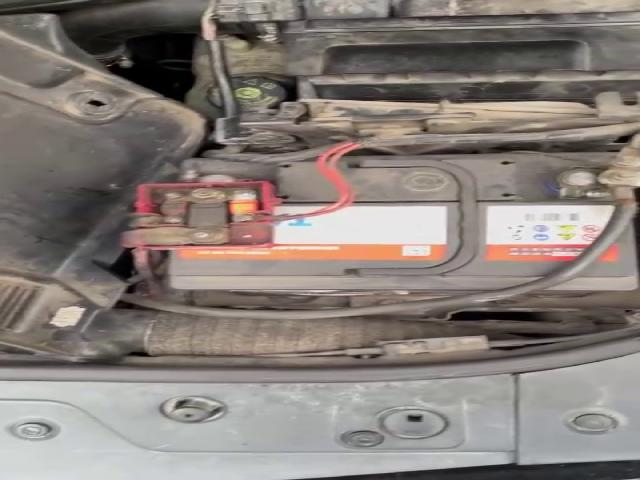accumulator: (125, 152, 637, 297)
